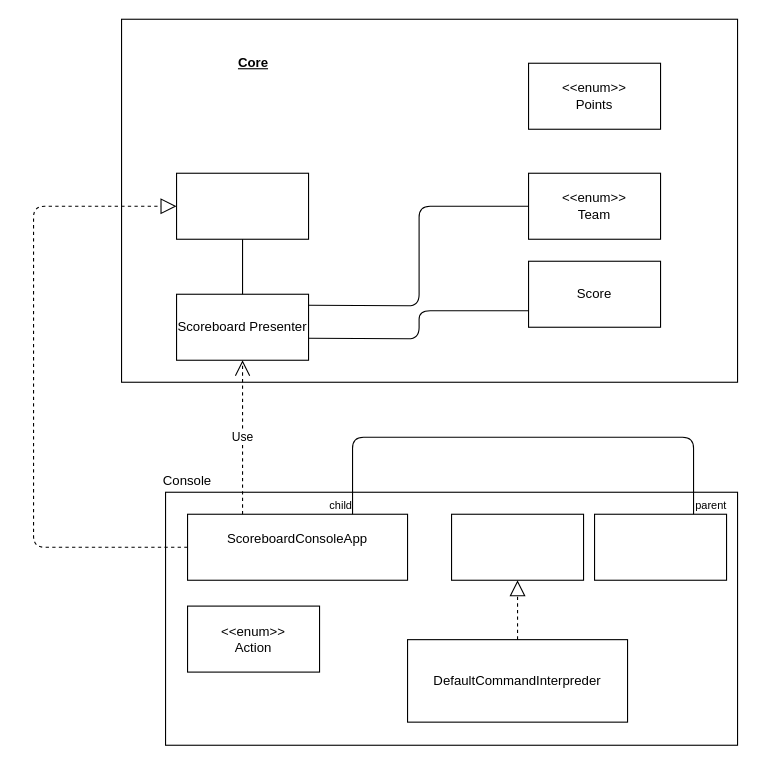
This 757x765 diagram has some shape labels left out. Here are the shapes that lost their labels. From the top down, the centre of each, then its label:
At (242,205): "Scoreboard View <<Interface>>".
At (517,546): "CommandInterpreter <<Interface>>".
At (660,546): "Console <<Interface>>".
